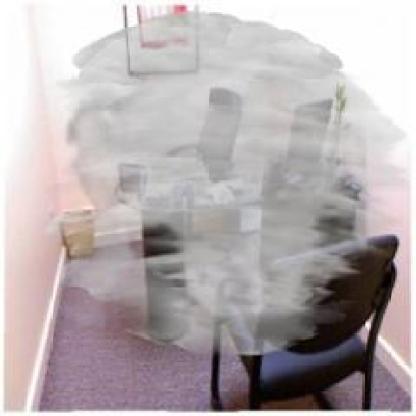Smoke: (42, 10, 410, 357)
